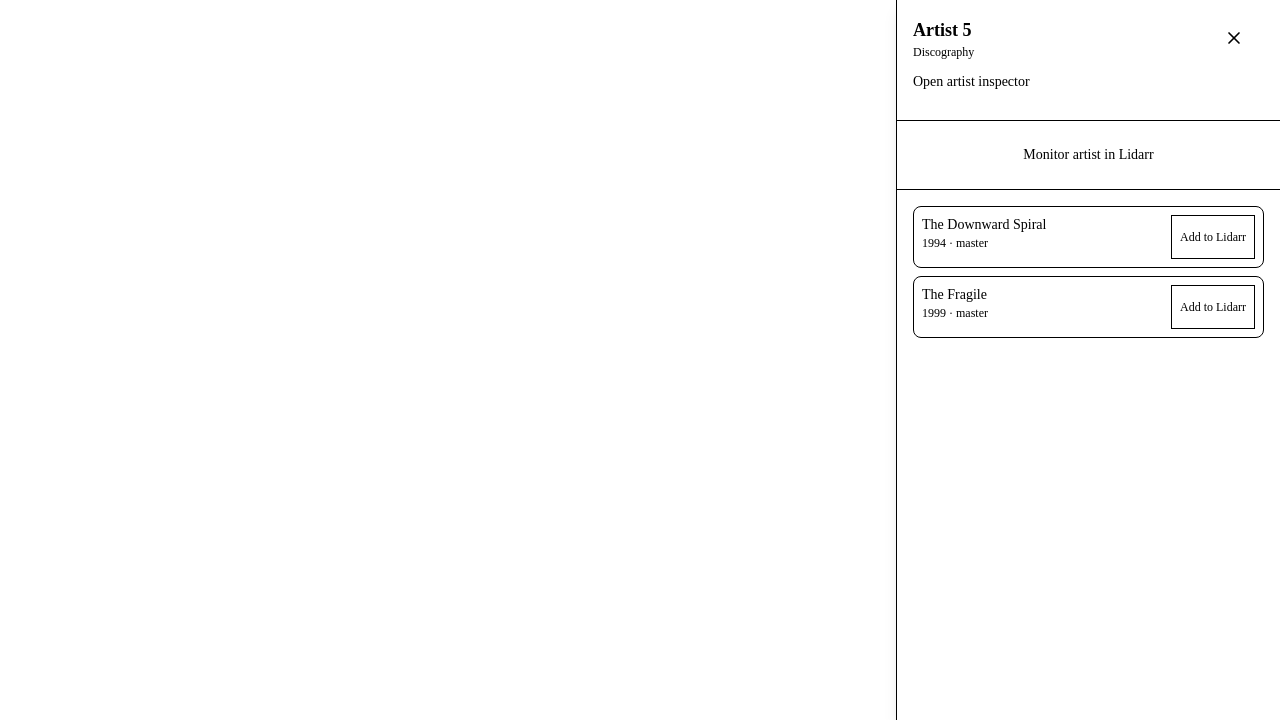
Test case: verified inspector and acquisition lifecycles › reports added:false as existing membership without claiming an artist was added or newly monitored
The width and height of the screenshot is (1280, 720).
Expected: the text "The Fragile" is shown, [922, 285, 988, 305]
Click the button "Monitor artist in Lidarr".
click(1088, 155)  # box [913, 137, 1264, 173]
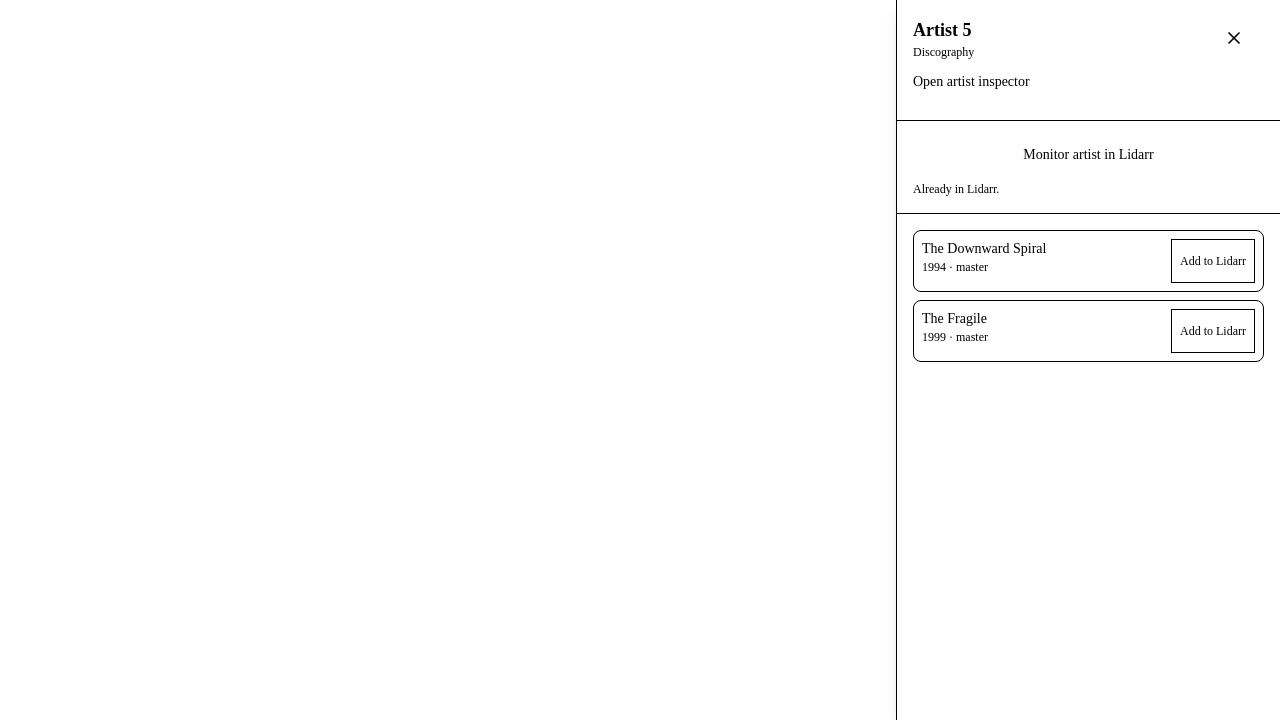
Now the text "Already in Lidarr." is shown, box [913, 182, 999, 196]
